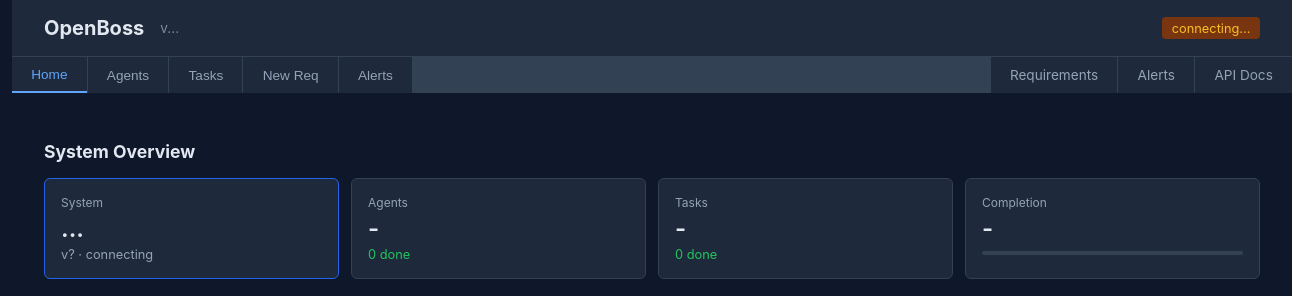
Test case: App › switches to Tasks tab and shows task data
Expected: the heading "System Overview" is shown, [44, 141, 195, 162]
What coordinates should you click on to do the following:
click the button "Tasks"
I would click on:
 (206, 75)
Its box is [169, 57, 242, 93].
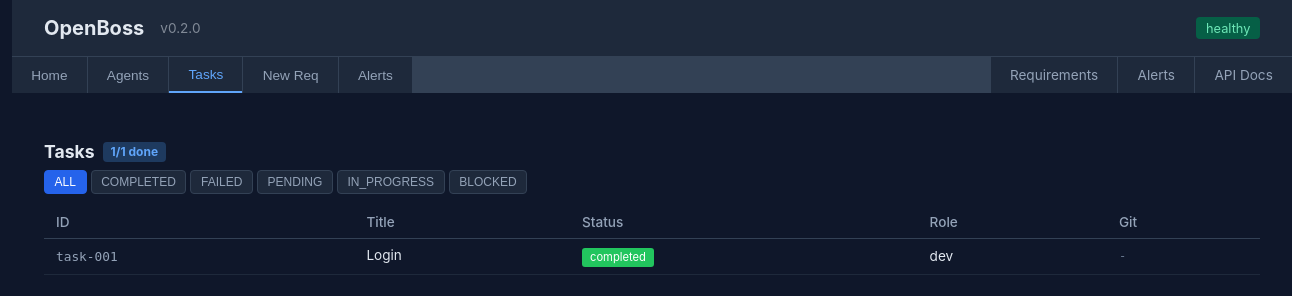
Result: the text "Login" is shown at [366, 247, 402, 263]
